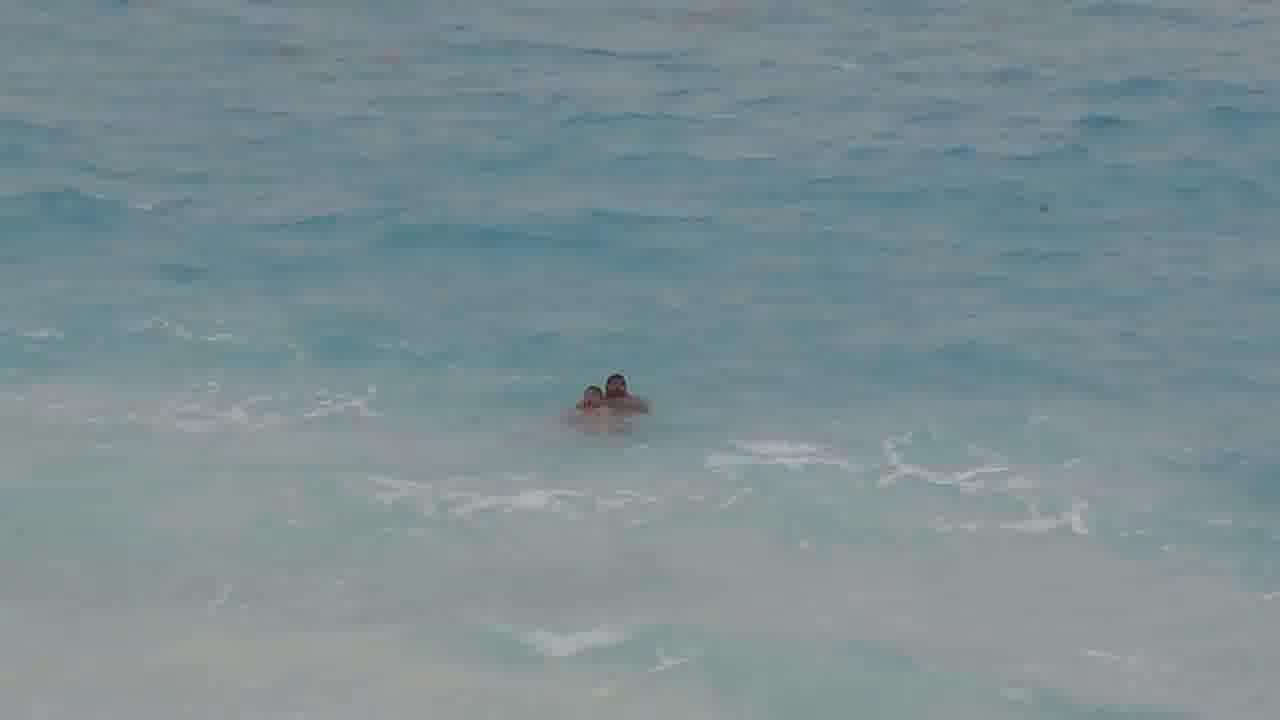swimmer: (598, 364, 650, 415), (558, 386, 616, 425)
